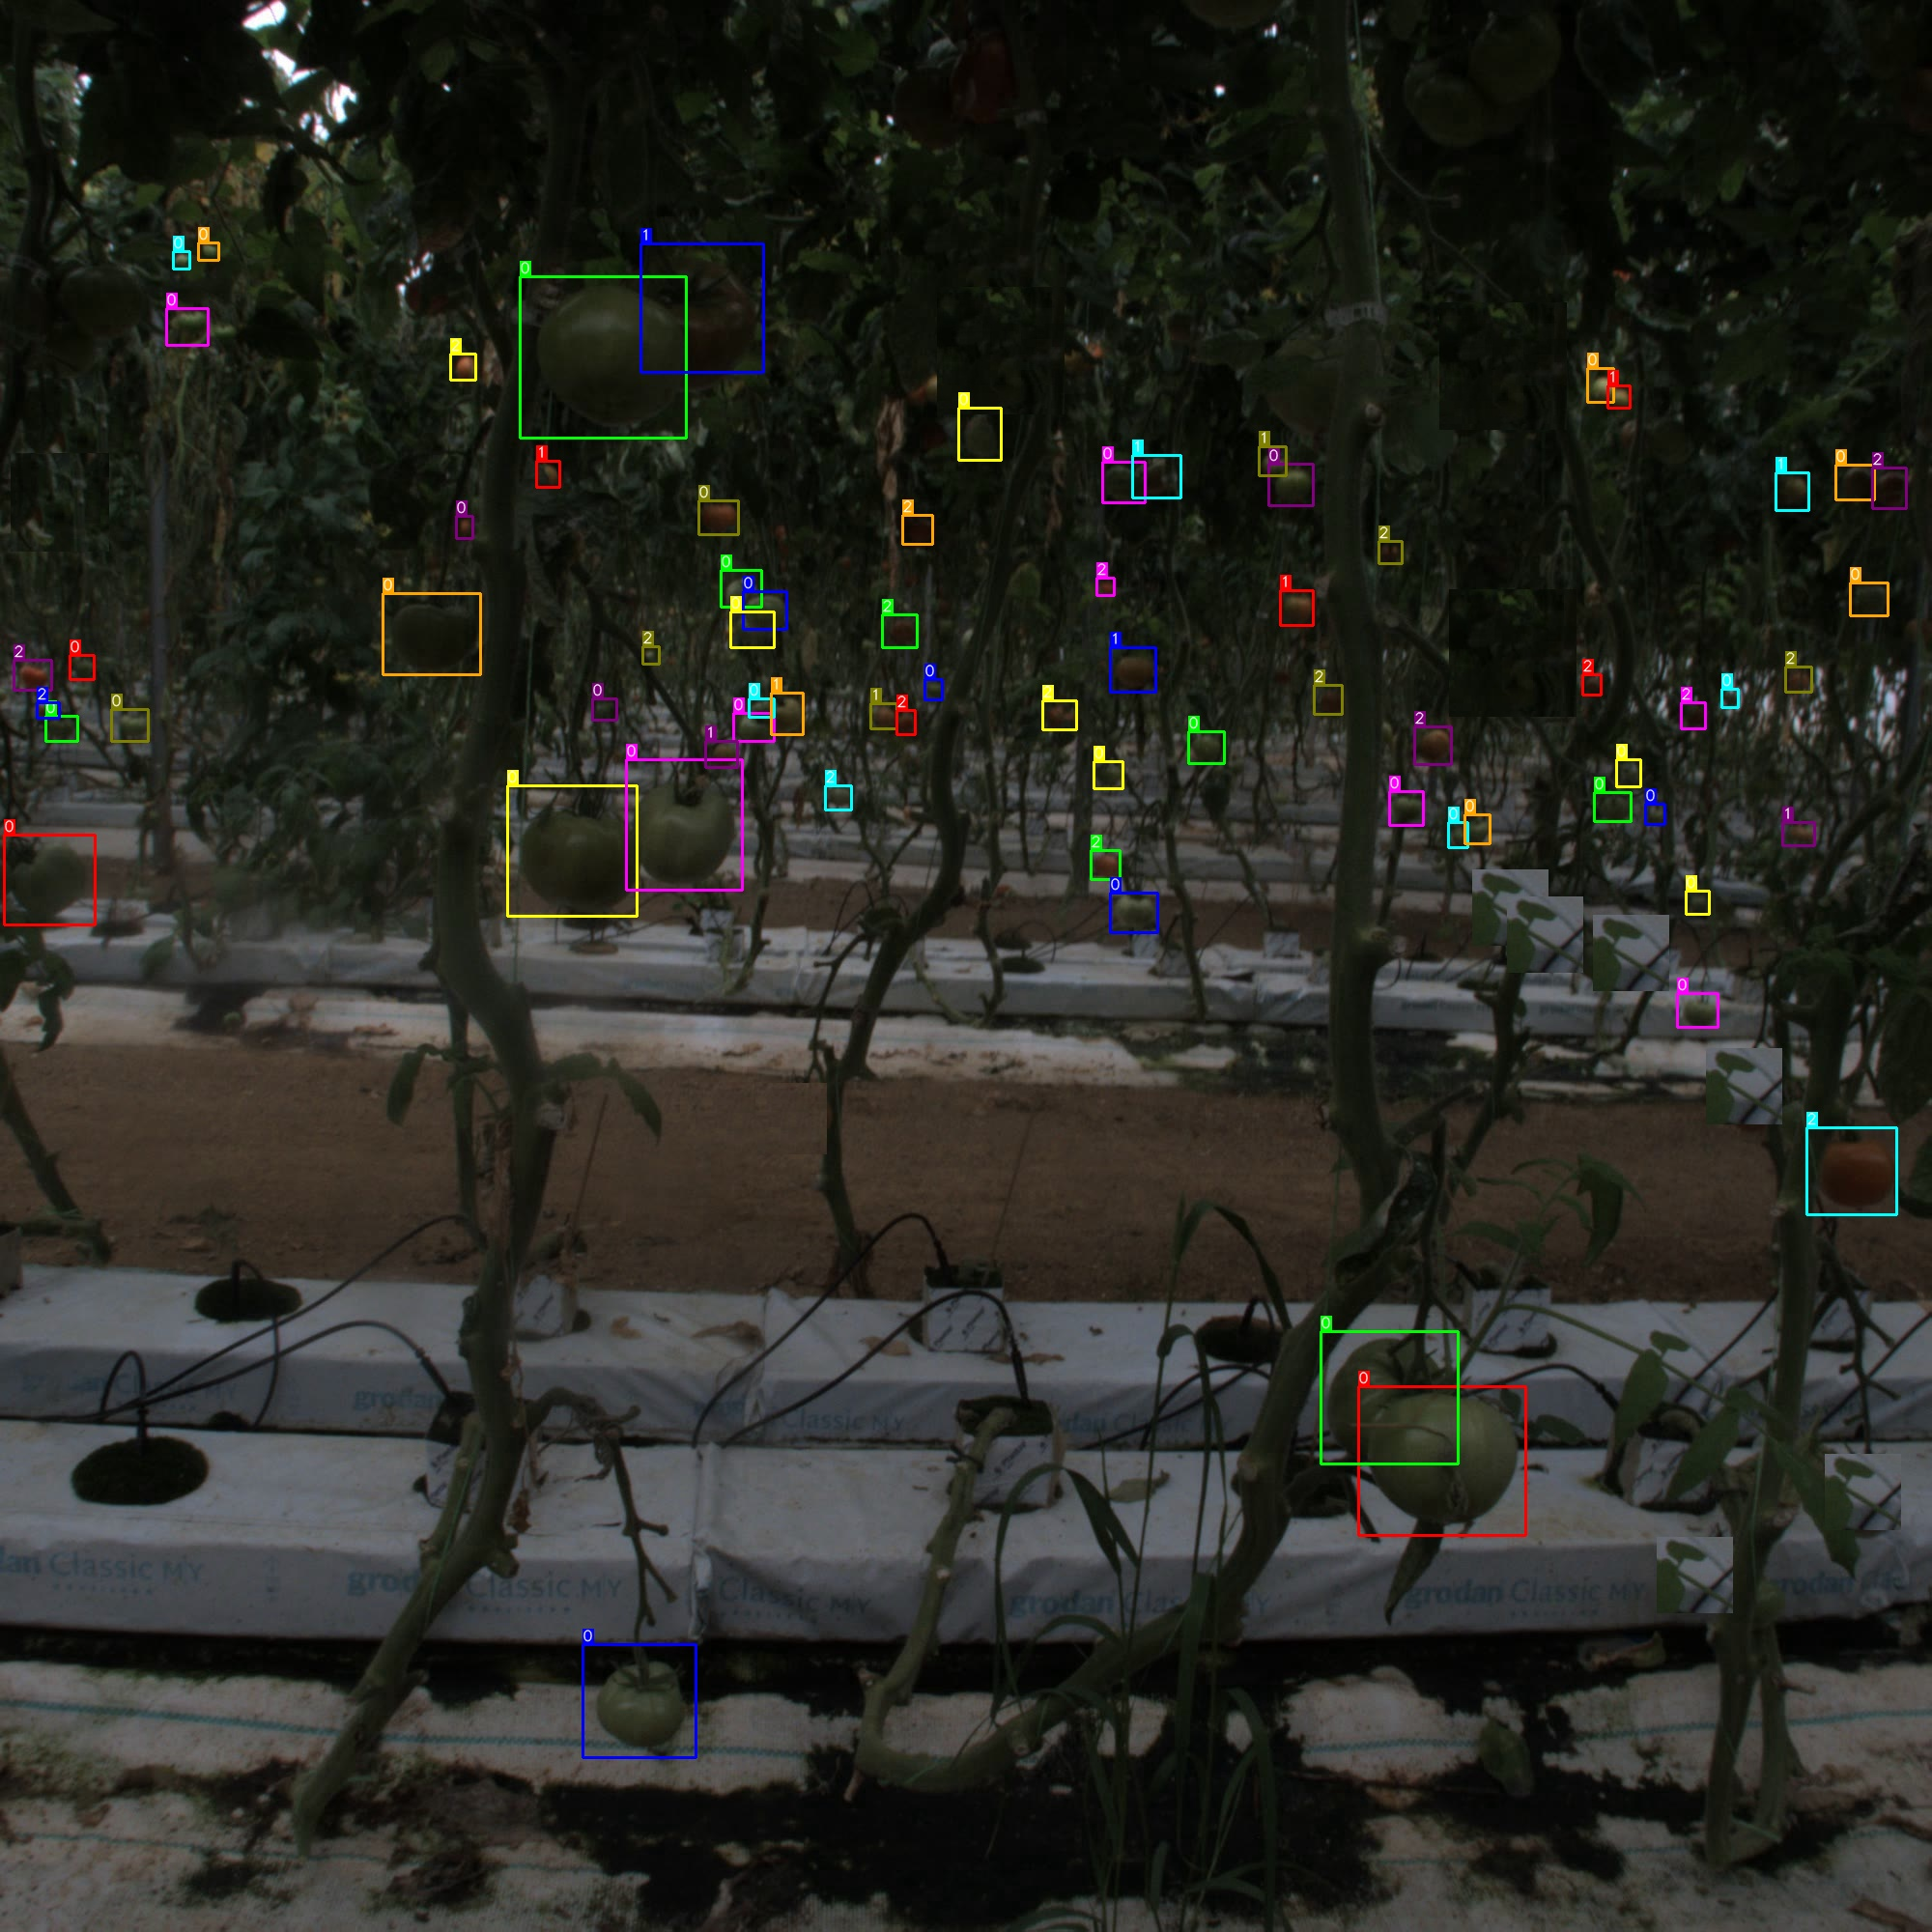MatureStage: (1806, 1127, 1897, 1215), (1414, 727, 1453, 764), (1872, 467, 1907, 508), (881, 614, 916, 648), (14, 660, 51, 690), (1042, 701, 1076, 729), (1090, 849, 1120, 879), (1315, 685, 1343, 715), (902, 515, 932, 543), (449, 354, 476, 380), (824, 786, 853, 810), (1785, 667, 1812, 692), (1681, 702, 1706, 729), (1378, 541, 1401, 564), (897, 709, 915, 736), (1582, 674, 1601, 695), (37, 702, 58, 718), (1097, 579, 1115, 596), (642, 646, 658, 665)
TurningStage: (640, 244, 764, 373), (1109, 648, 1157, 692), (1132, 455, 1180, 497), (771, 692, 803, 734), (1279, 591, 1315, 626), (1776, 472, 1810, 510), (1258, 446, 1286, 476), (706, 741, 738, 768), (1782, 823, 1815, 846), (870, 702, 897, 729), (536, 460, 559, 488), (1608, 386, 1631, 409)
WhiteStage: (520, 276, 686, 439), (1359, 1387, 1525, 1536), (1320, 1330, 1458, 1465), (508, 786, 637, 916), (626, 759, 741, 890), (582, 1644, 695, 1757), (4, 835, 96, 925), (382, 593, 479, 674), (959, 407, 1001, 460), (1269, 464, 1315, 506), (1109, 893, 1157, 932), (1102, 462, 1145, 502), (743, 591, 786, 630), (166, 308, 209, 345), (731, 612, 775, 648), (720, 570, 761, 607), (1677, 993, 1718, 1028), (1835, 465, 1875, 501), (699, 501, 740, 534), (1851, 582, 1888, 616), (111, 709, 149, 741), (732, 713, 773, 741), (1389, 791, 1422, 824), (1189, 731, 1224, 763), (1594, 793, 1631, 823), (1587, 368, 1614, 403), (1093, 761, 1122, 789), (46, 717, 78, 741), (1465, 814, 1490, 844), (1615, 759, 1640, 787), (69, 655, 94, 679), (1686, 890, 1709, 915), (1447, 823, 1468, 847), (593, 699, 616, 720), (748, 699, 773, 717), (1645, 803, 1665, 824), (456, 517, 472, 540), (198, 242, 218, 260), (925, 679, 943, 699), (1721, 688, 1739, 708), (173, 251, 189, 269)
